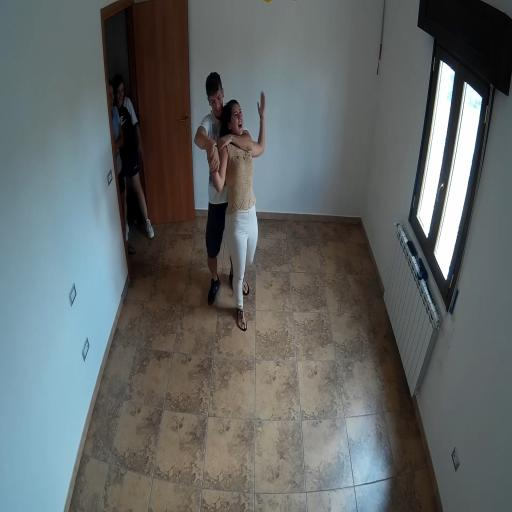violencia: (186, 52, 280, 344)
